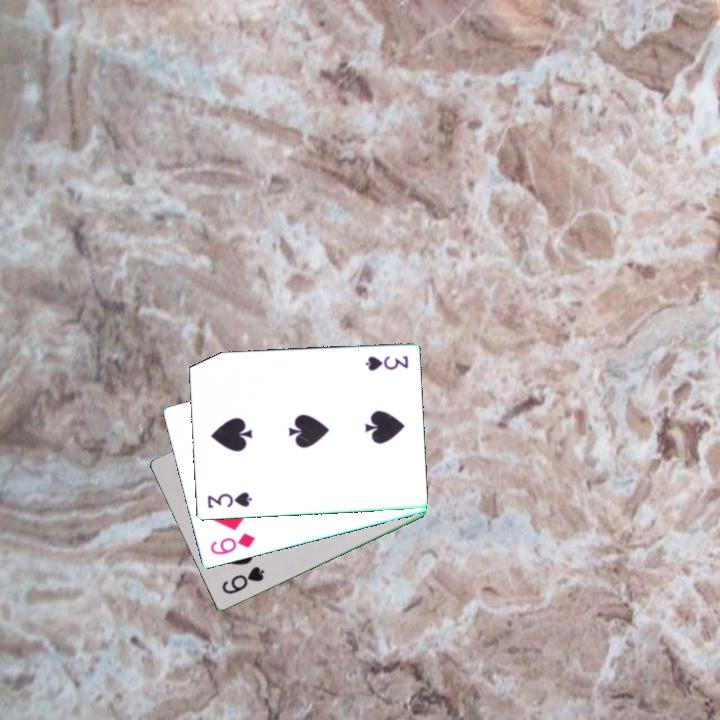3s: (204, 489, 254, 511), (362, 352, 411, 374)
6d: (206, 530, 258, 558)
6s: (218, 563, 268, 597)
